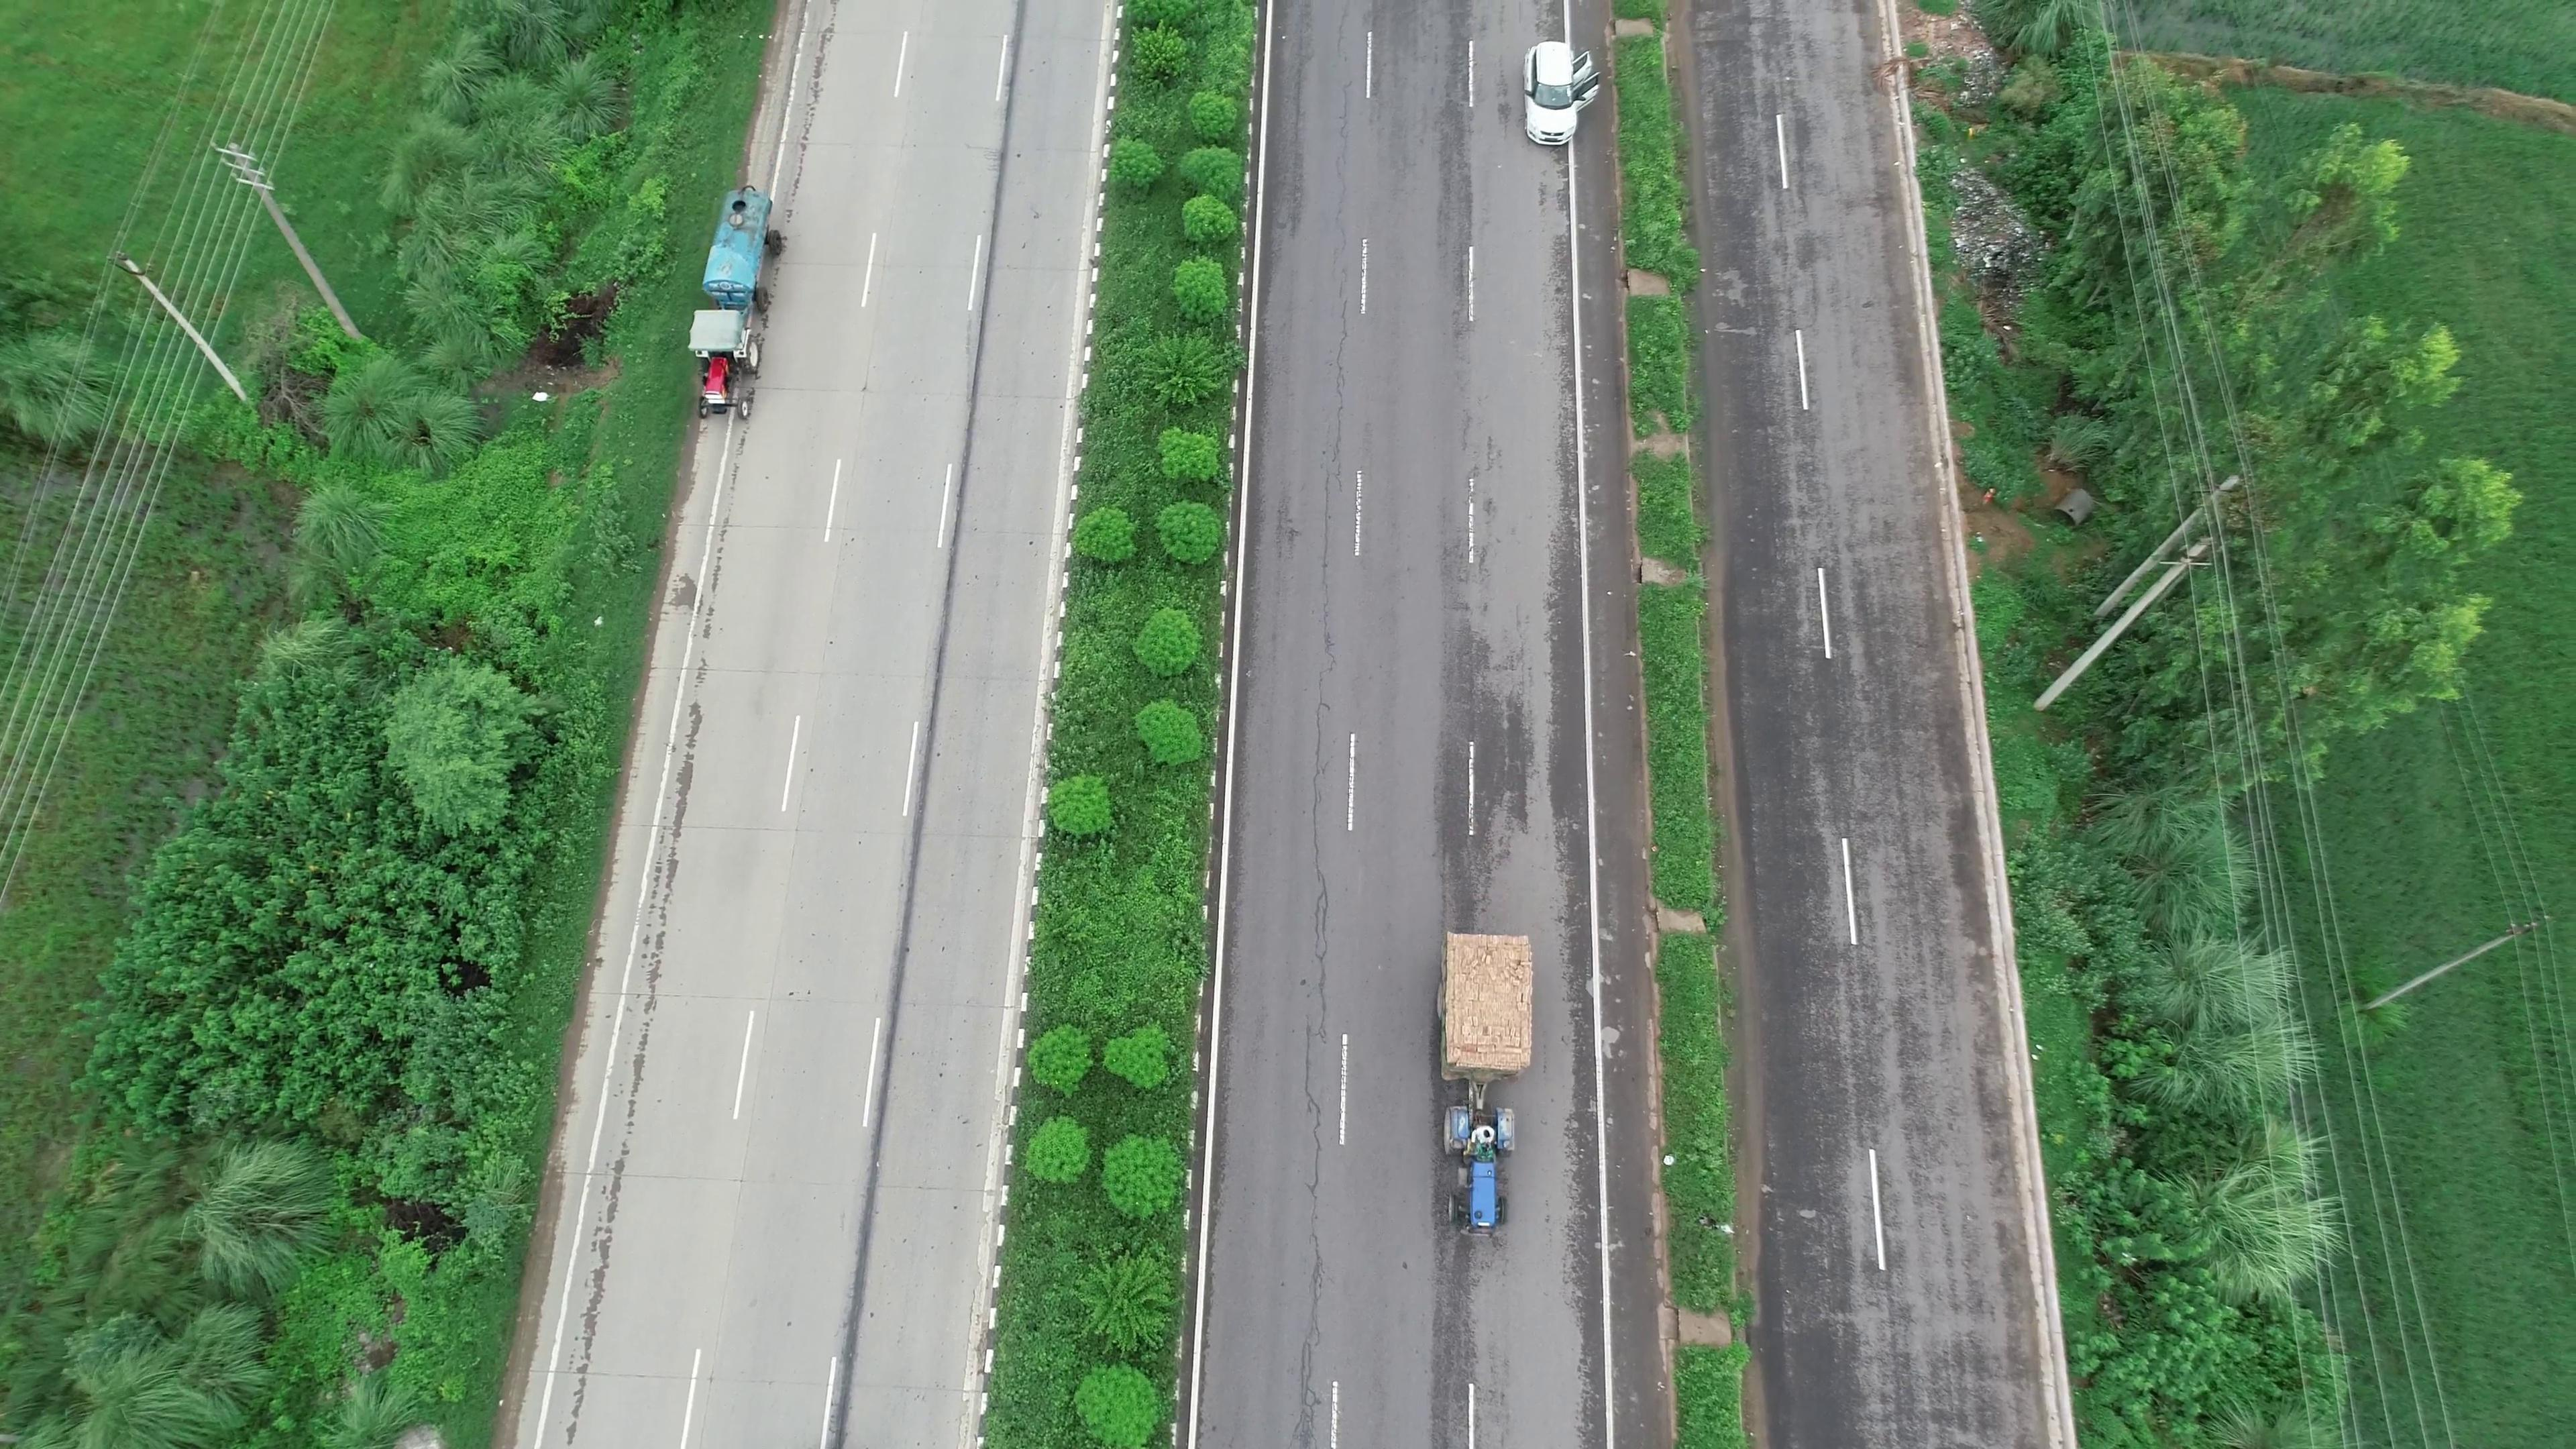Longitudinal_cracks: (1269, 678, 1352, 1426), (1306, 23, 1362, 669)
